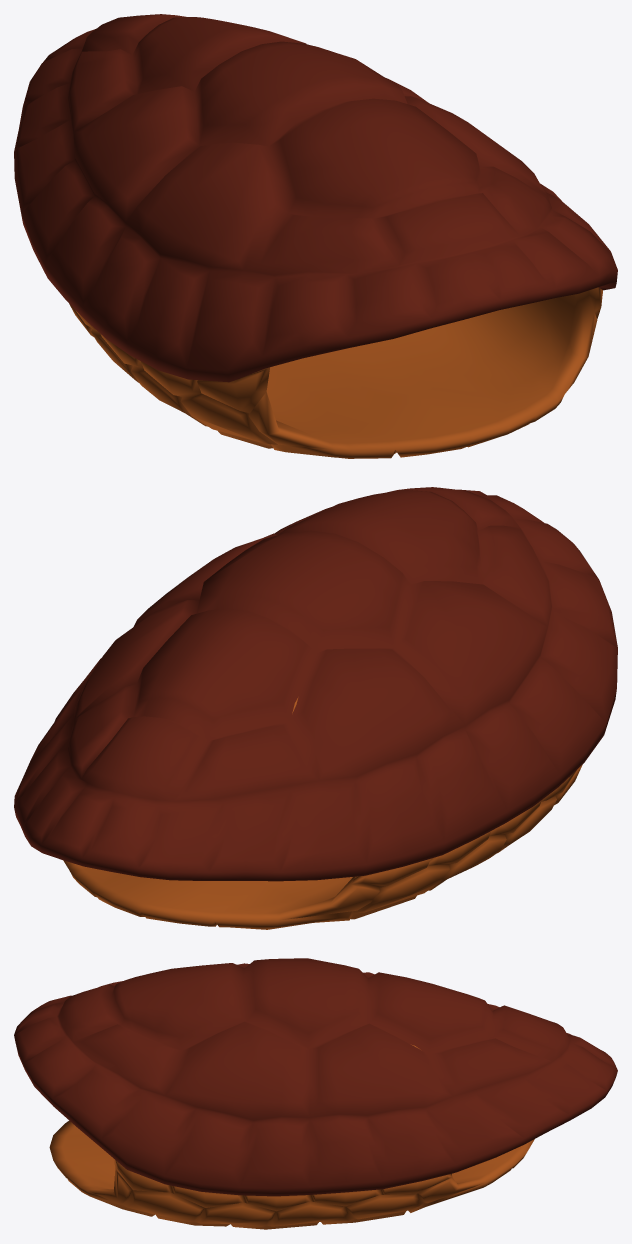
File: turtle_turtle_shell.obj
3 renders of one model, top to bottom at view 1: azimuth 30°, elevation 25°; view 2: azimuth 150°, elevation 25°; view 3: azimuth 270°, elevation 25°, orthographic. The views are drawn at different scales.
Visible parts, largest first — view 1: turtle_shell; view 2: turtle_shell; view 3: turtle_shell.
Boxes of the visible parts, left/top/right/bottom form: turtle_shell: left=14, top=14, right=617, bottom=458; turtle_shell: left=14, top=487, right=617, bottom=929; turtle_shell: left=14, top=958, right=617, bottom=1229.
Size of the model in its own units: 0.4328 by 0.2953 by 0.7232.
